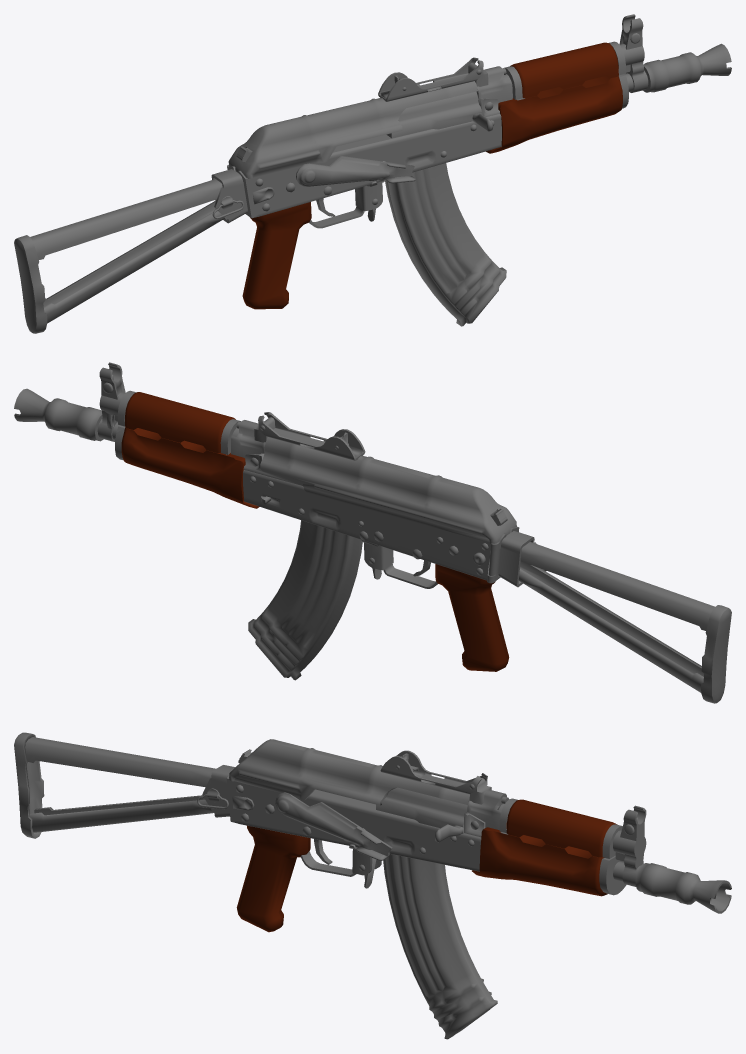
The model's file is aks74u.glb.
3 views of the same model, one above another, from view 1: azimuth 30°, elevation 25°; view 2: azimuth 150°, elevation 25°; view 3: azimuth 330°, elevation 25° (orthographic). The views are drawn at different scales.
Parts seen in each view (by area): view 1: base, base_2, mag, bolt; view 2: base, base_2, mag; view 3: base, base_2, mag, bolt.
Part boxes in pixels (x1,y1,x2,y2): base: (14, 14, 731, 333); base_2: (242, 42, 622, 309); mag: (385, 163, 506, 326); bolt: (386, 91, 493, 138); base: (14, 362, 731, 703); base_2: (121, 392, 509, 671); mag: (248, 520, 362, 680); base: (14, 732, 731, 913); base_2: (236, 799, 617, 932); mag: (383, 854, 497, 1039); bolt: (376, 787, 467, 842).
Bounding box in the file's own units: 0.7296 × 0.2634 × 0.0779.
